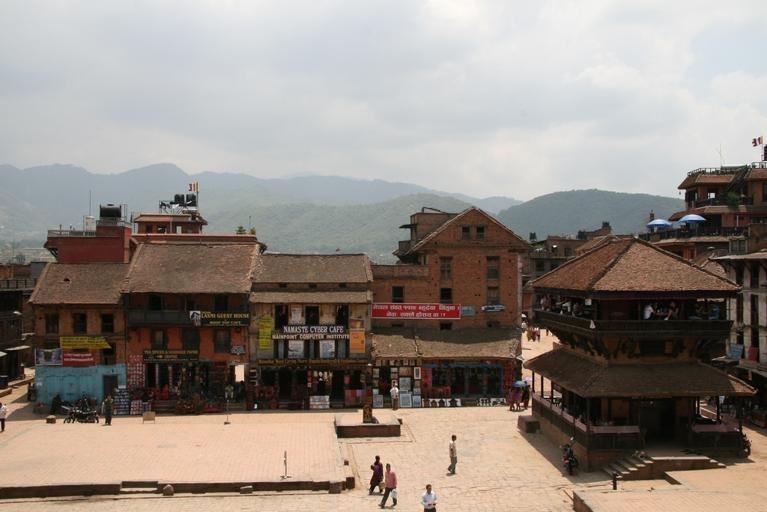non-vehicle: (559, 434, 581, 477), (61, 401, 100, 424)
